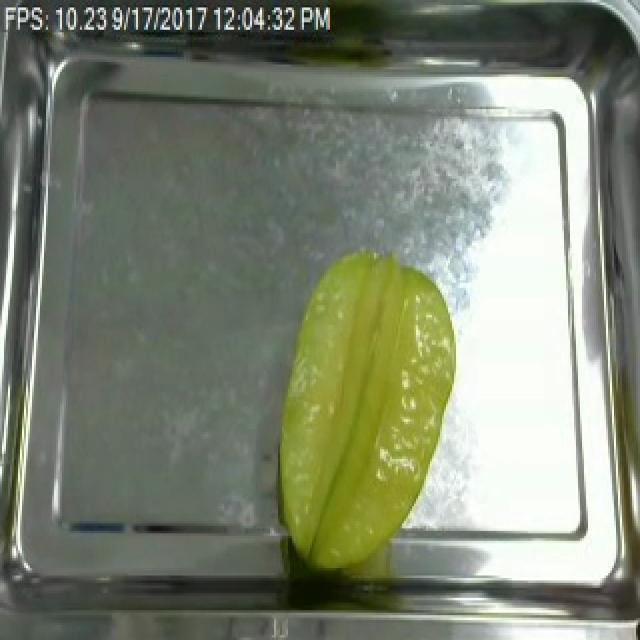fruit: (264, 241, 462, 588)
